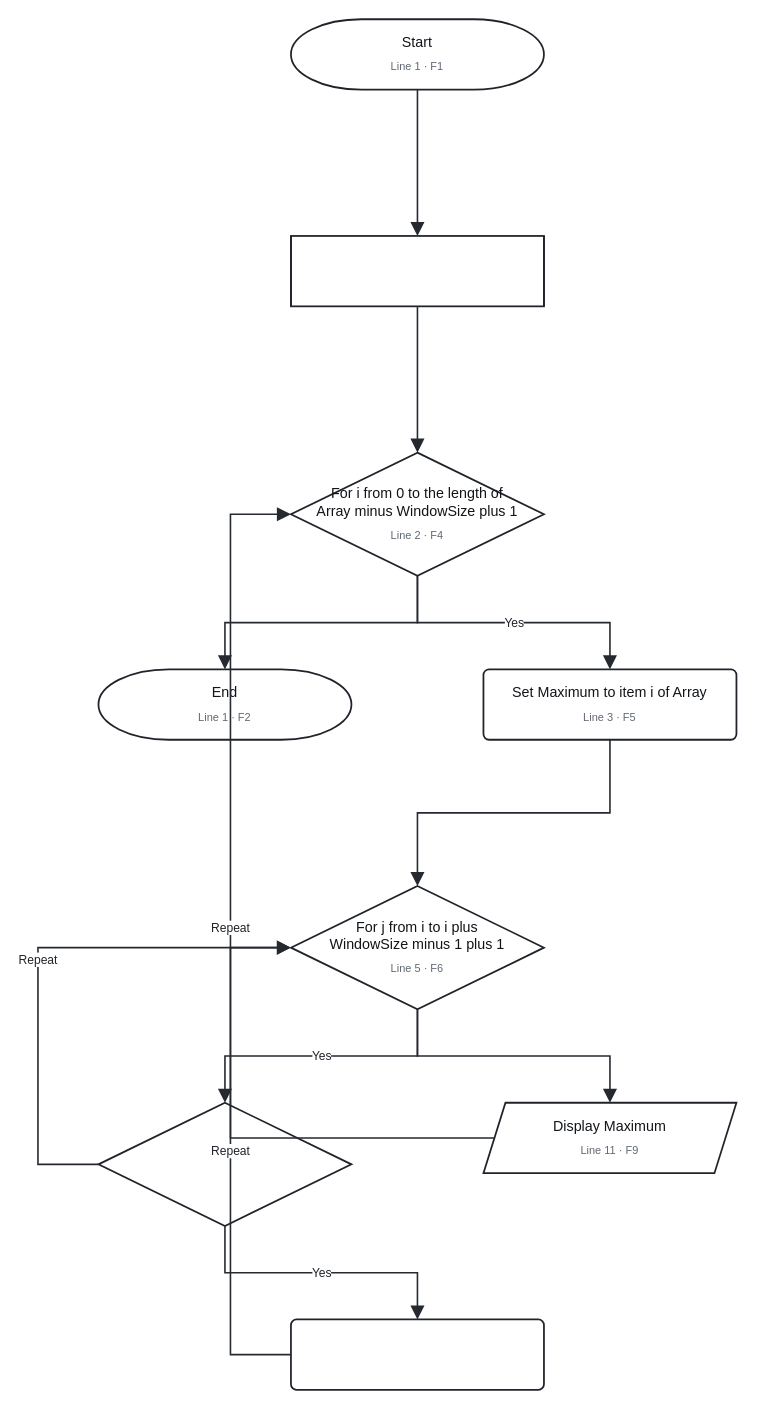
The diagram is 757 pixels wide and 1410 high, and some of its shapes have lost their labels. Each missing label, with the centre of its shape:
"Item j of Array is greater than Maximum? Line 6 · F7" goes at (224,1163).
"Run function unnamed_function with Array, WindowSize Line 1 · F3" goes at (417,271).
"Set Maximum to item j of Array Line 7 · F8" goes at (417,1354).
